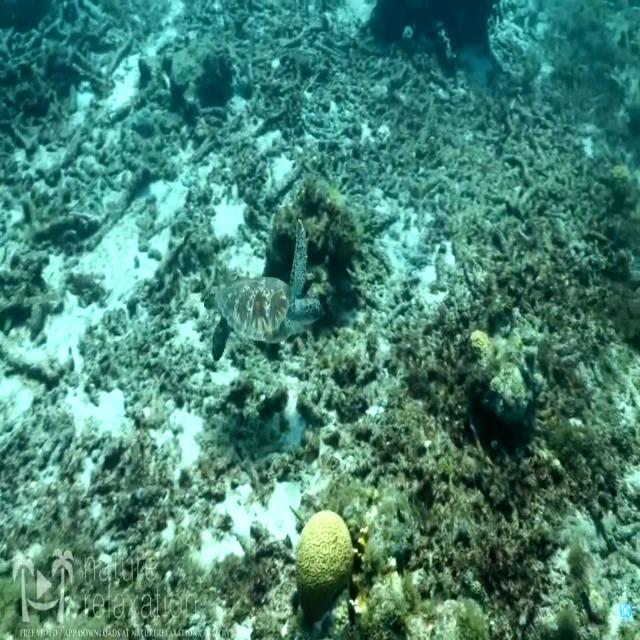Sea turtle: (204, 220, 324, 360)
